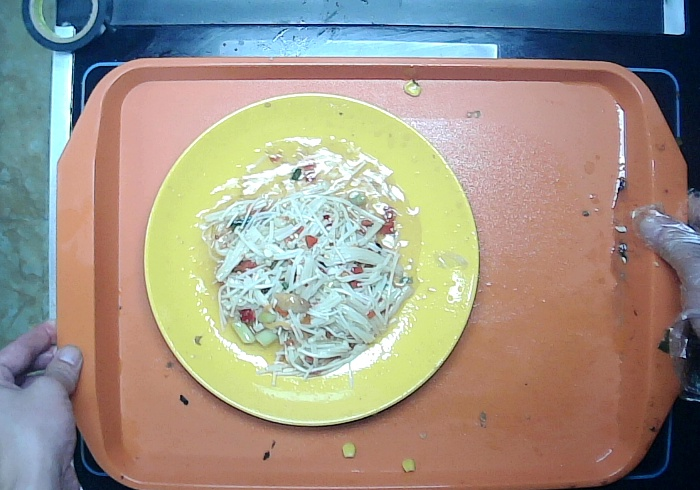HZYJPL-Huang_Se_Yuan_Pan: (142, 90, 481, 430)
